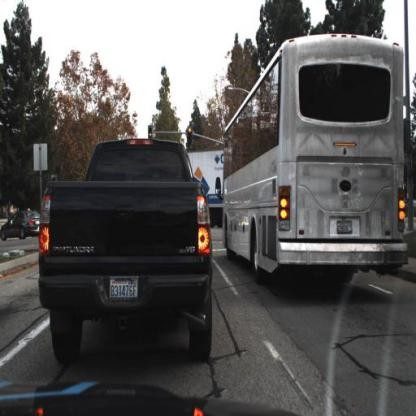car: (44, 140, 210, 354), (1, 211, 41, 246)
trafficLight: (149, 125, 154, 141), (51, 175, 59, 183)
trafficLight-Red: (187, 127, 194, 147)
truck: (222, 38, 405, 288)
